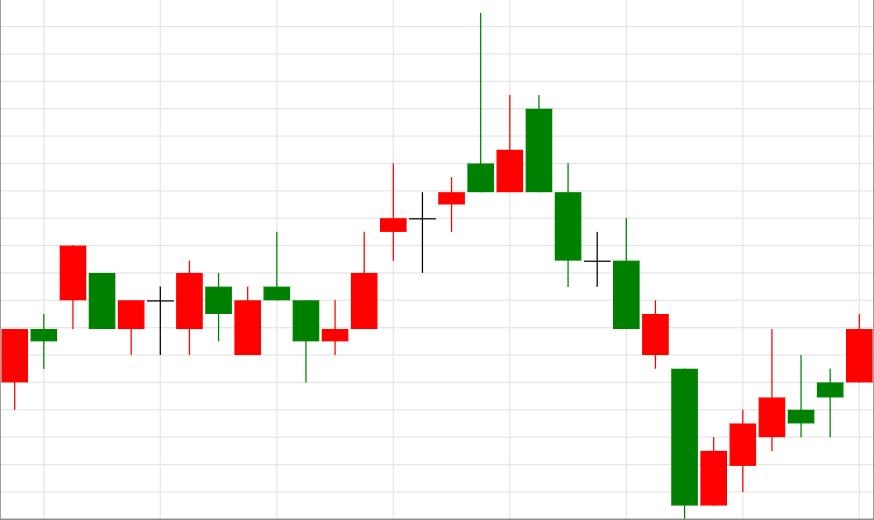shooting_star_fall: (322, 13, 493, 356)
